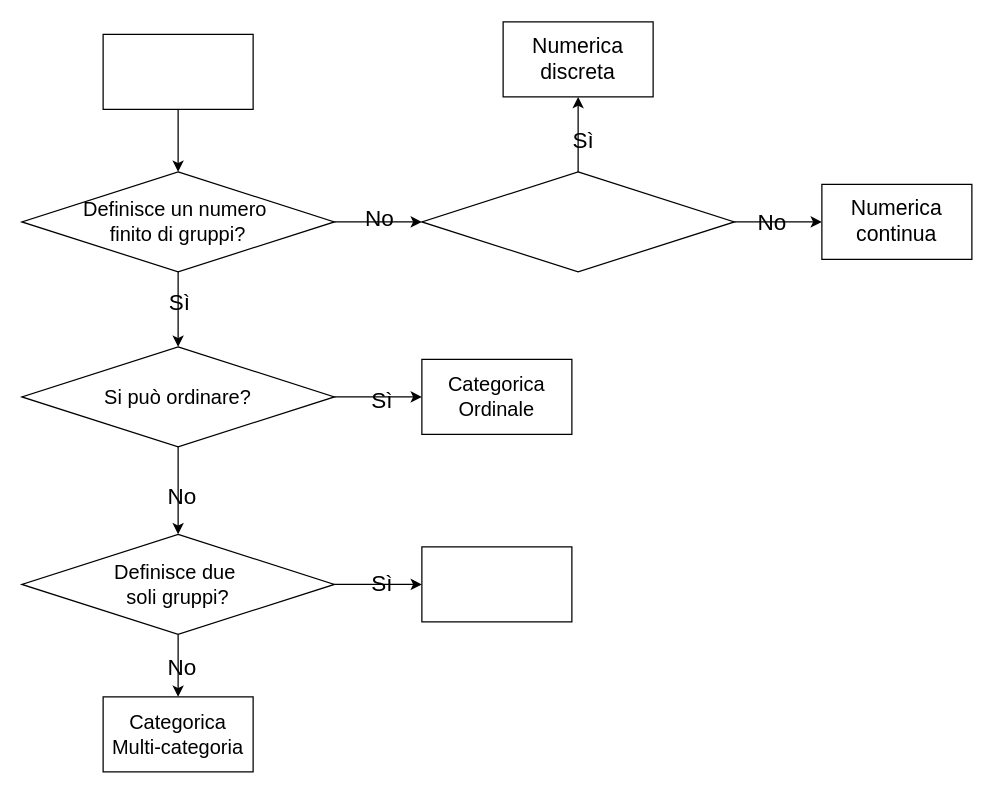
Image size: 994x794. Some labels were removed from this diagram. Each missing label, with the box of its shape:
Categorica Binaria: (421, 546, 572, 622)
La variabile...: (102, 33, 253, 109)
Può assumere solo valori interi?: (421, 171, 734, 272)
